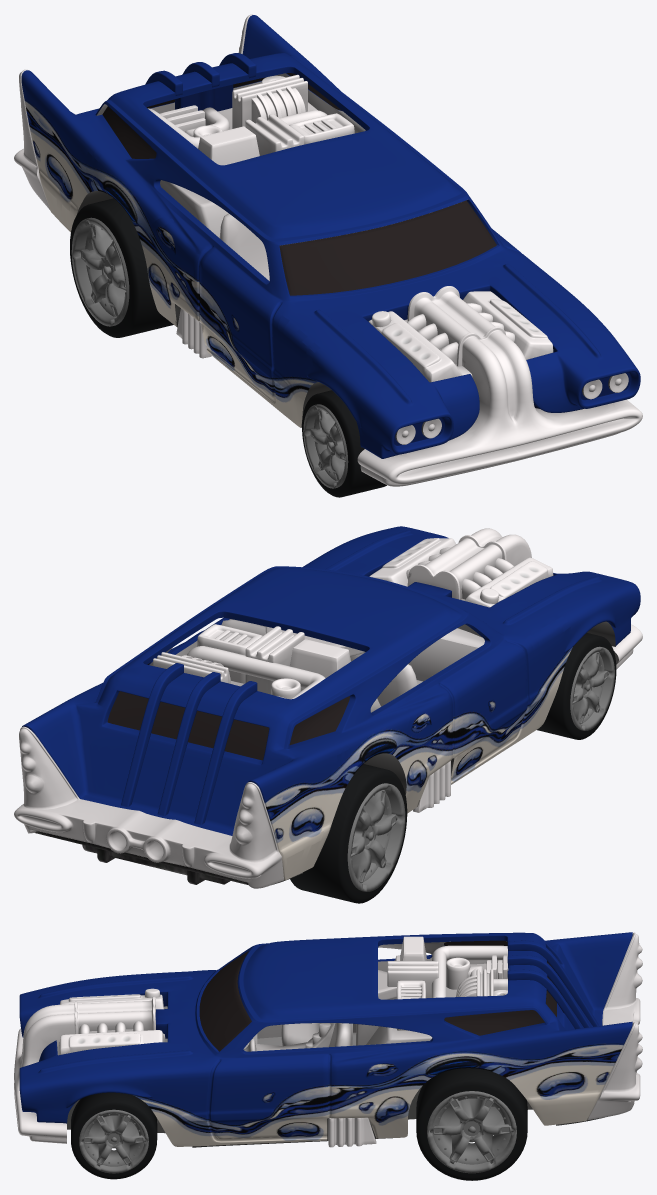
File: jackhammer.glb
3 views of the same model, one above another, from view 1: azimuth 30°, elevation 25°; view 2: azimuth 150°, elevation 25°; view 3: azimuth 270°, elevation 25° (orthographic). The views are drawn at different scales.
Parts seen in each view (by area): view 1: Jackhammer.001, Mesh_3011.rip.001, Mesh_3008.rip.001; view 2: Jackhammer.001, Mesh_3011.rip.001, Mesh_3008.rip.001; view 3: Jackhammer.001, Mesh_3011.rip, Mesh_3008.rip.
Boxes of the visible parts, <box> form: Jackhammer.001: <box>14,14,642,486</box>; Mesh_3011.rip.001: <box>70,198,173,337</box>; Mesh_3008.rip.001: <box>302,390,386,497</box>; Jackhammer.001: <box>14,526,642,888</box>; Mesh_3011.rip.001: <box>290,764,407,903</box>; Mesh_3008.rip.001: <box>537,633,616,739</box>; Jackhammer.001: <box>14,932,642,1147</box>; Mesh_3011.rip: <box>416,1068,527,1180</box>; Mesh_3008.rip: <box>71,1092,157,1179</box>.
Bounding box in the file's own units: 3.38 × 2.45 × 8.16.
Materials: 7 (3 with a texture image).
